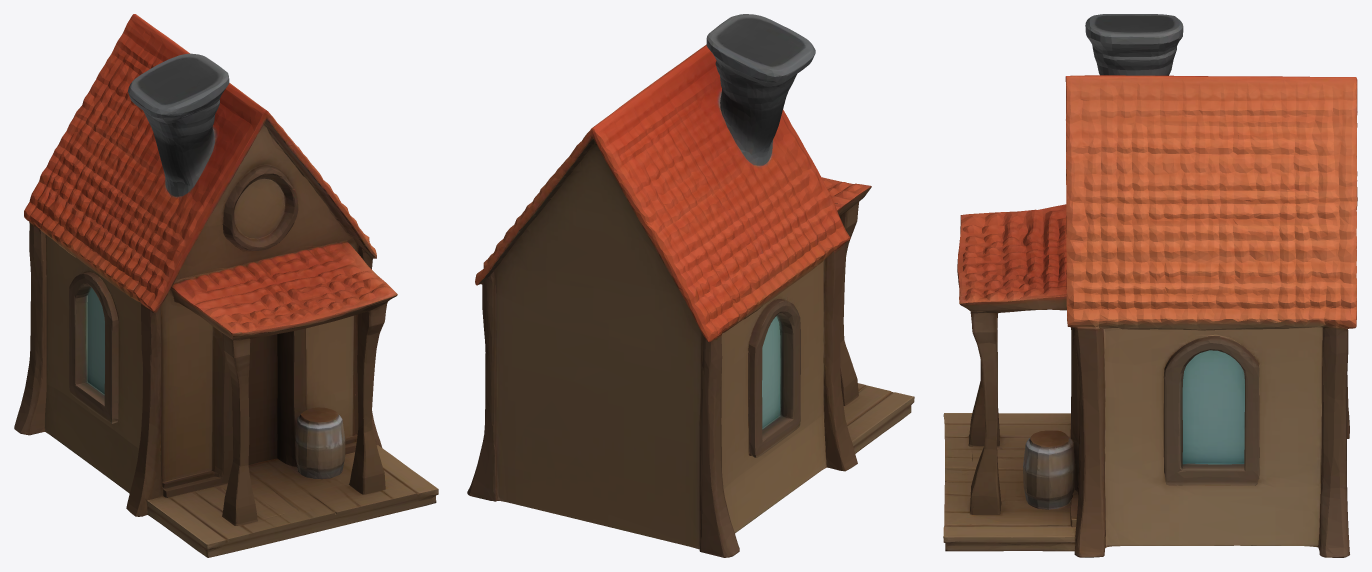
The model's file is 3deditformer_t01.glb.
3 views of the same model, side by side, from view 1: azimuth 30°, elevation 25°; view 2: azimuth 150°, elevation 25°; view 3: azimuth 270°, elevation 25° (orthographic). The views are drawn at different scales.
Visible parts, largest first — view 1: geometry_0; view 2: geometry_0; view 3: geometry_0.
Part boxes in pixels (box(x1,y1,x2,y2)): geometry_0: box(14, 14, 438, 557); geometry_0: box(467, 14, 914, 557); geometry_0: box(943, 14, 1357, 557).
Bounding box in the file's own units: 0.7267 × 1.13 × 0.9501.
1 material, 1 textured.
